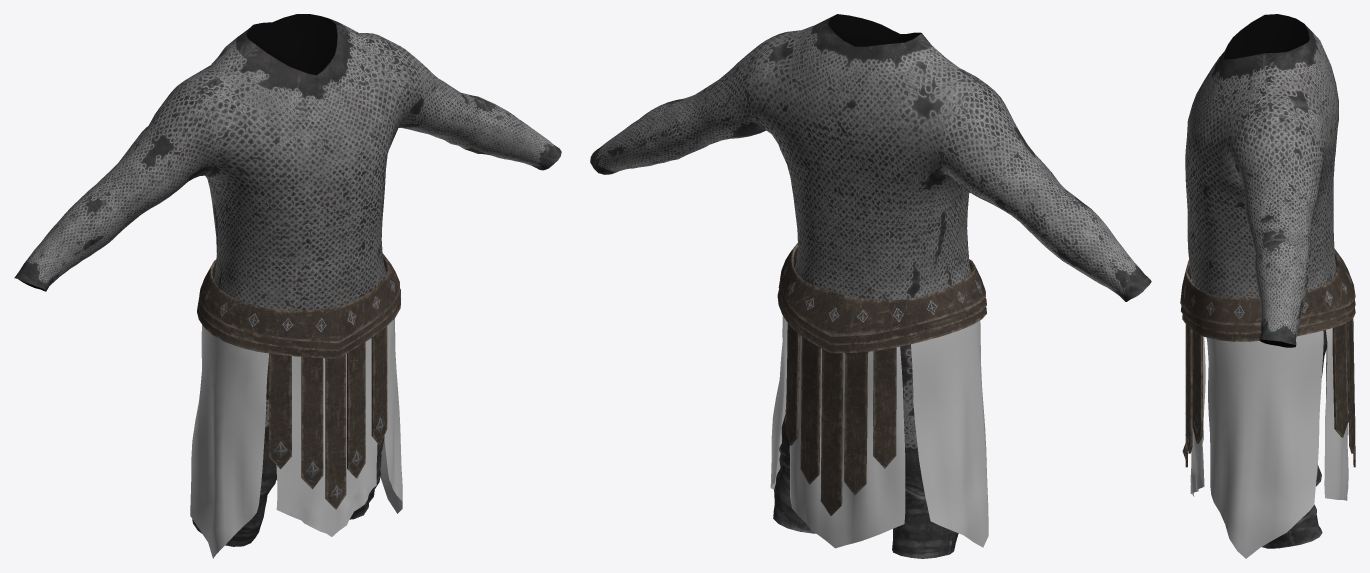
Rendered from sk_uruk_mordor_chainmail_light_c.fbx.
3 renders of one model, left to right at view 1: azimuth 30°, elevation 25°; view 2: azimuth 150°, elevation 25°; view 3: azimuth 270°, elevation 25°, orthographic. The views are drawn at different scales.
Parts seen in each view (by area): view 1: sk_uruk_mordor_chainmail_light_c.0, sk_uruk_mordor_chainmail_light_c.1, sk_uruk_mordor_chainmail_light_c.2; view 2: sk_uruk_mordor_chainmail_light_c.0, sk_uruk_mordor_chainmail_light_c.1, sk_uruk_mordor_chainmail_light_c.2; view 3: sk_uruk_mordor_chainmail_light_c.0, sk_uruk_mordor_chainmail_light_c.2, sk_uruk_mordor_chainmail_light_c.1.
Part boxes in pixels (x1,y1,x2,y2): sk_uruk_mordor_chainmail_light_c.0: (14, 14, 561, 546); sk_uruk_mordor_chainmail_light_c.1: (197, 253, 400, 509); sk_uruk_mordor_chainmail_light_c.2: (190, 319, 402, 558); sk_uruk_mordor_chainmail_light_c.0: (590, 14, 1151, 558); sk_uruk_mordor_chainmail_light_c.1: (777, 243, 986, 515); sk_uruk_mordor_chainmail_light_c.2: (770, 316, 988, 548); sk_uruk_mordor_chainmail_light_c.0: (1185, 14, 1338, 548); sk_uruk_mordor_chainmail_light_c.2: (1190, 278, 1348, 558); sk_uruk_mordor_chainmail_light_c.1: (1180, 248, 1355, 467).
Size of the model in its own units: 1.37 by 0.3975 by 1.21.
